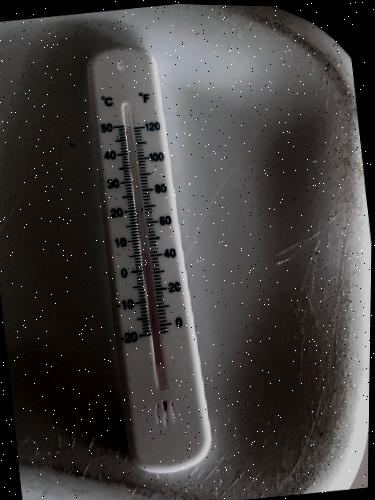thermo: (85, 43, 216, 475)
